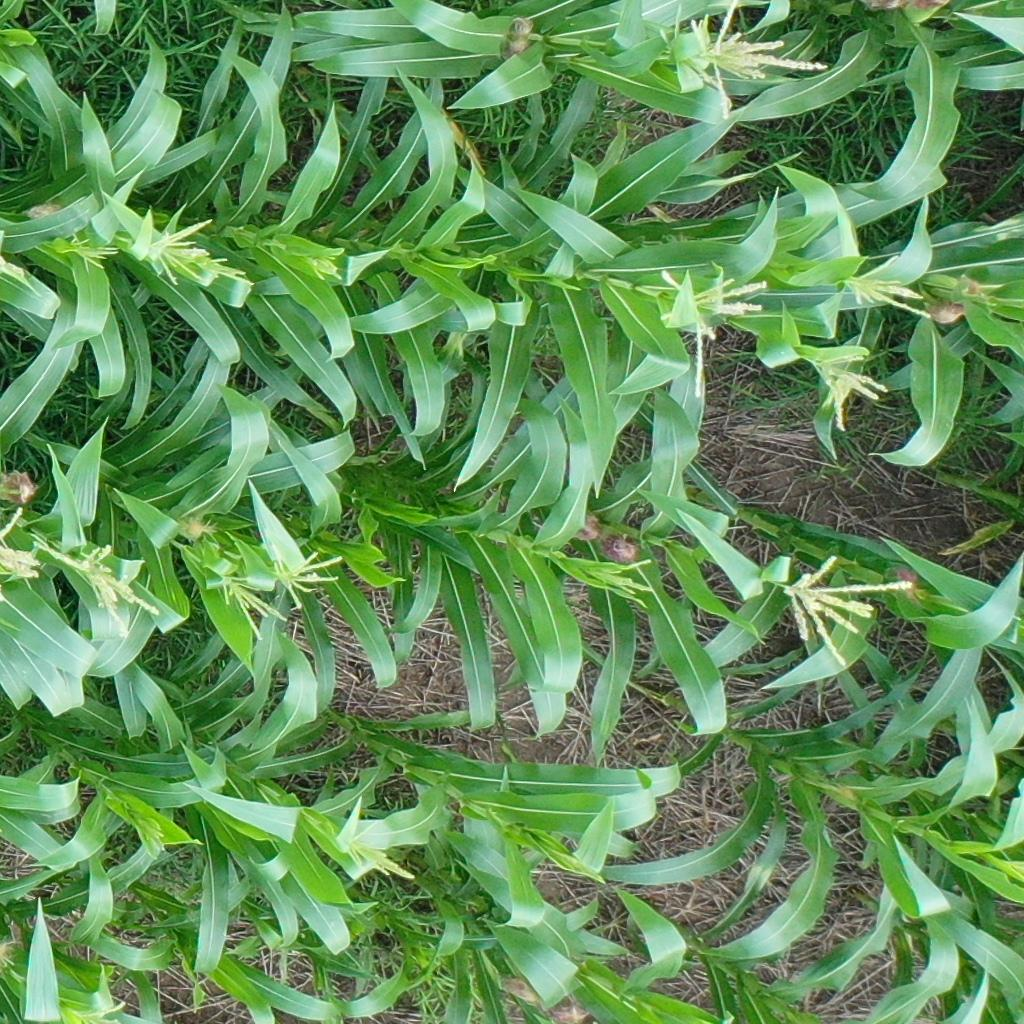Tassel: (676, 1, 831, 122), (656, 261, 772, 402), (779, 552, 915, 670), (35, 527, 162, 640), (141, 212, 259, 296), (841, 247, 931, 321), (813, 353, 888, 431), (207, 574, 292, 642), (267, 543, 346, 613), (341, 819, 416, 886), (1, 500, 42, 587), (590, 556, 656, 603), (68, 233, 119, 276), (138, 809, 170, 859), (307, 250, 348, 285), (60, 1005, 129, 1024)
